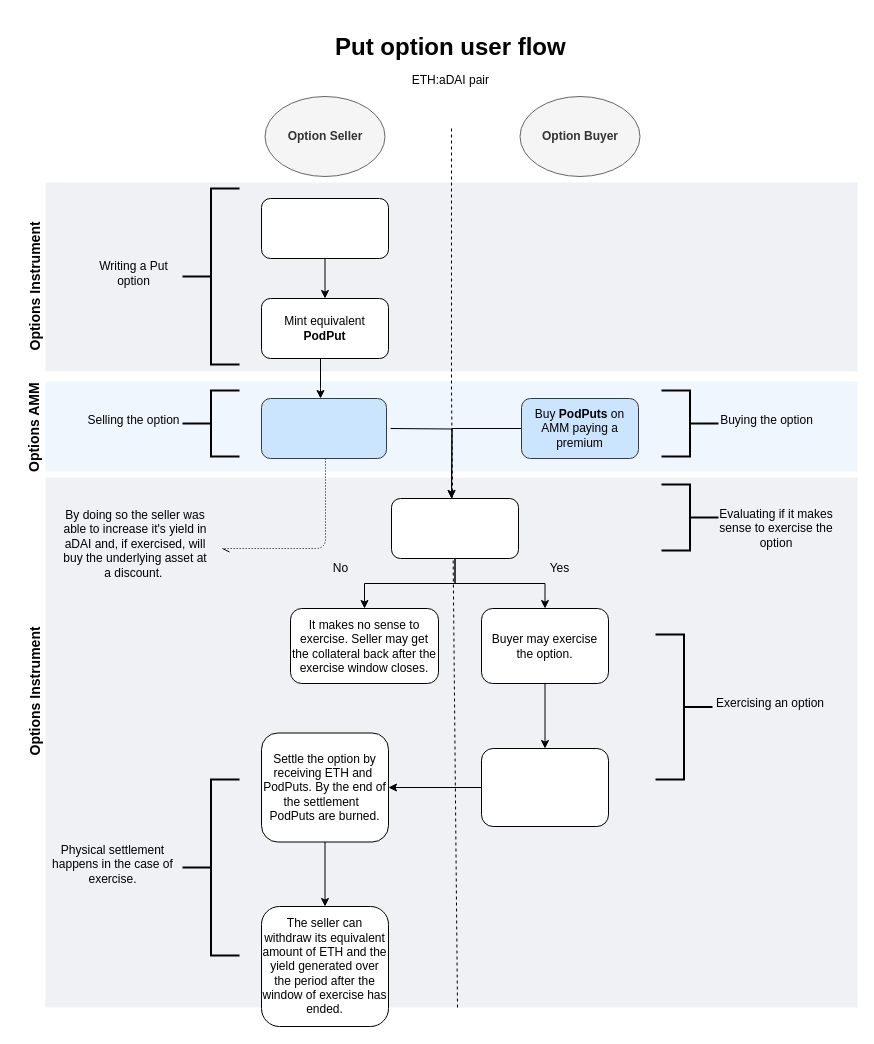
The diagram is 874 pixels wide and 1044 high, and some of its shapes have lost their labels. The shapes that lost their labels are listed below. From the top down, each one's centre as x and y in pixels, then its label:
At [324,228]: "Locks aDAI as collateral".
At [323,428]: "Sell it on the AMM for a premium".
At [454,528]: "If it the option is still valid. Is the option in-the-money ?".
At [544,787]: "Buyer has to deliver PodPuts + equivalent ETH in order to exercise the option.".
